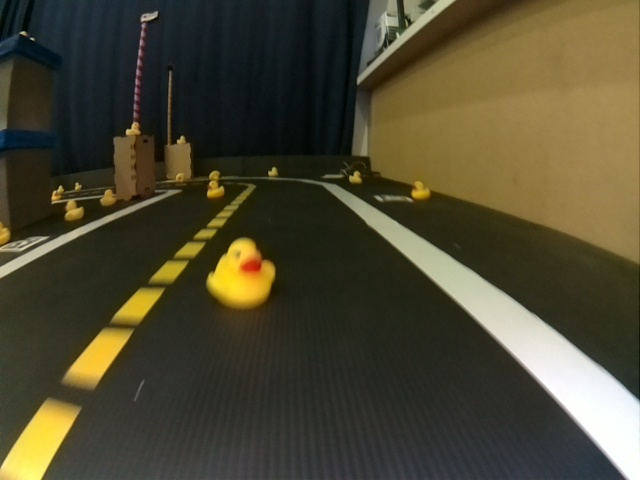Duckie: (206, 242, 274, 307), (64, 201, 83, 220), (412, 181, 430, 197), (207, 182, 224, 198), (100, 189, 116, 206), (126, 122, 141, 135), (349, 172, 362, 183), (209, 170, 220, 180), (268, 167, 278, 177), (176, 173, 184, 183), (177, 136, 185, 145)
QR code: (1, 236, 50, 253), (376, 194, 413, 202)
